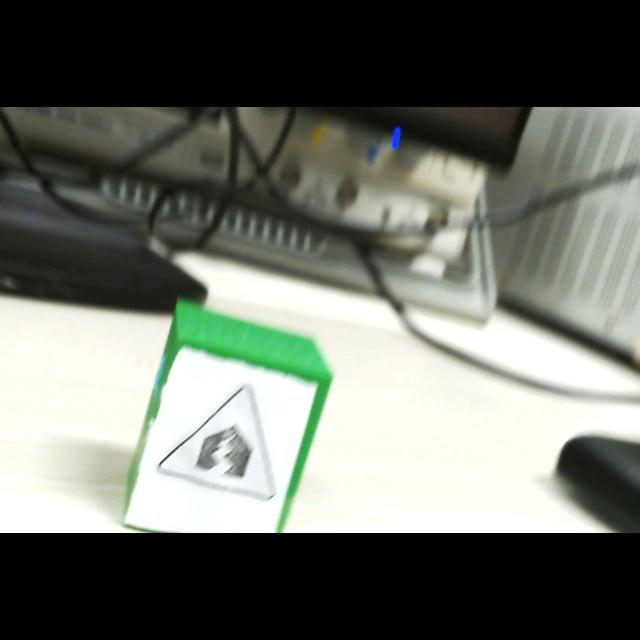Earthquake: (155, 384, 281, 504), (156, 385, 274, 501)
